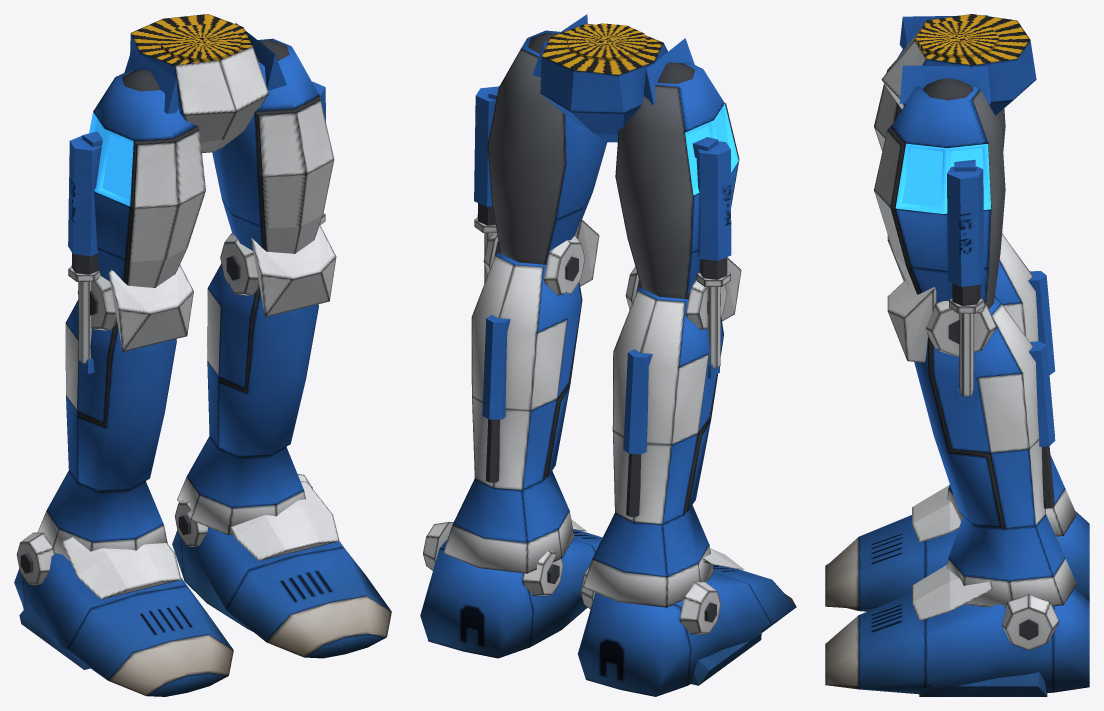
Rendered from HighStrengthLegsX.glb.
3 views of the same model, side by side, from view 1: azimuth 30°, elevation 25°; view 2: azimuth 150°, elevation 25°; view 3: azimuth 270°, elevation 25° (orthographic).
Visible parts, largest first — view 1: HighStrengthLegsX_ShinR, HighStrengthLegsX_ShinL, HighStrengthLegsX_FootL, HighStrengthLegsX_FootR, HighStrengthLegsX_ThighL, HighStrengthLegsX_ThighR, HighStrengthLegsX_Pelvis; view 2: HighStrengthLegsX_ShinR, HighStrengthLegsX_ShinL, HighStrengthLegsX_ThighL, HighStrengthLegsX_ThighR, HighStrengthLegsX_FootL, HighStrengthLegsX_FootR, HighStrengthLegsX_Pelvis; view 3: HighStrengthLegsX_ShinR, HighStrengthLegsX_FootR, HighStrengthLegsX_ThighR, HighStrengthLegsX_Pelvis, HighStrengthLegsX_FootL, HighStrengthLegsX_ShinL, HighStrengthLegsX_ThighL.
Boxes of the visible parts, box(x1,y1,x2,y2) form: HighStrengthLegsX_ShinR: box(177, 225, 336, 535); HighStrengthLegsX_ShinL: box(37, 264, 193, 561); HighStrengthLegsX_FootL: box(14, 532, 233, 696); HighStrengthLegsX_FootR: box(172, 474, 391, 658); HighStrengthLegsX_ThighL: box(68, 70, 205, 287); HighStrengthLegsX_ThighR: box(212, 38, 334, 253); HighStrengthLegsX_Pelvis: box(122, 14, 289, 152); HighStrengthLegsX_ShinR: box(443, 219, 599, 573); HighStrengthLegsX_ShinL: box(582, 257, 741, 607); HighStrengthLegsX_ThighL: box(615, 61, 739, 298); HighStrengthLegsX_ThighR: box(474, 30, 607, 264); HighStrengthLegsX_FootL: box(578, 548, 796, 696); HighStrengthLegsX_FootR: box(420, 519, 602, 658); HighStrengthLegsX_Pelvis: box(528, 14, 694, 142); HighStrengthLegsX_ShinR: box(887, 280, 1076, 607); HighStrengthLegsX_FootR: box(825, 564, 1089, 696); HighStrengthLegsX_ThighR: box(874, 86, 1005, 313); HighStrengthLegsX_Pelvis: box(881, 14, 1036, 115); HighStrengthLegsX_FootL: box(825, 485, 1089, 611); HighStrengthLegsX_ShinL: box(887, 233, 1076, 536); HighStrengthLegsX_ThighL: box(874, 49, 1005, 151).
Size of the model in its own units: 11.51 by 21.56 by 8.7.
Materials: 6 (5 with a texture image).
